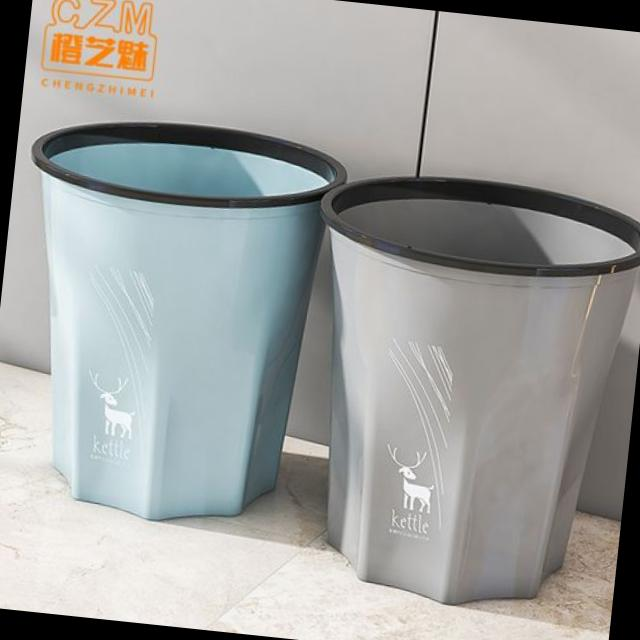dustbin: (273, 142, 640, 628), (0, 100, 350, 540)
